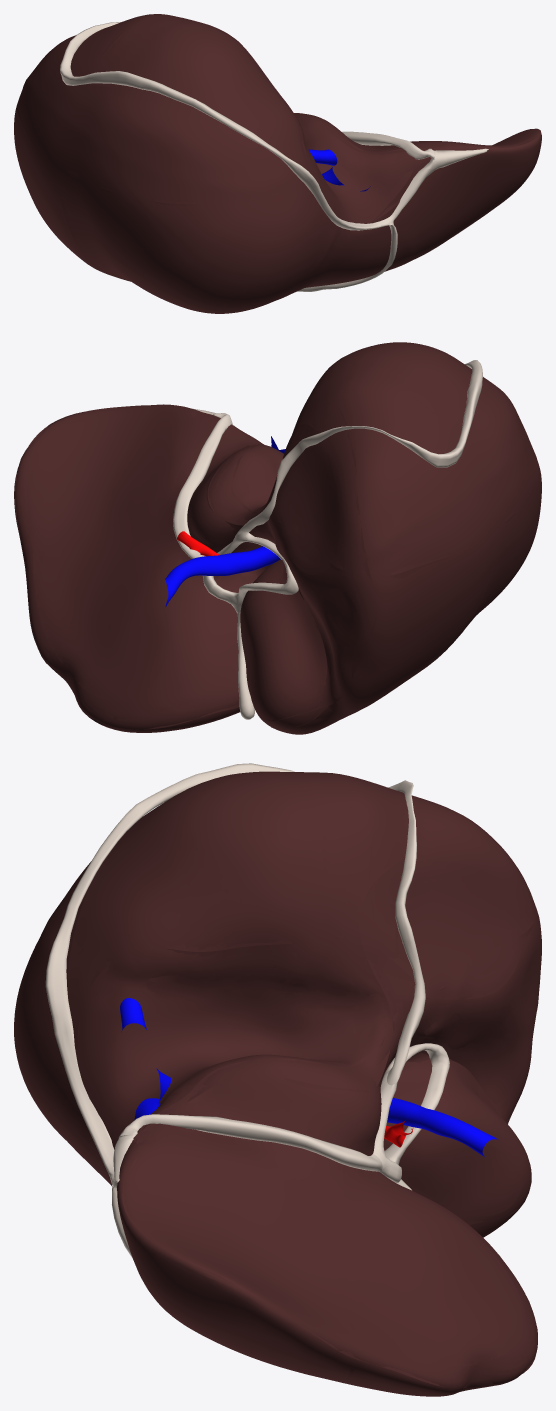
The model's file is liver-female.glb.
3 renders of one model, top to bottom at view 1: azimuth 30°, elevation 25°; view 2: azimuth 150°, elevation 25°; view 3: azimuth 270°, elevation 25°, orthographic. The views are drawn at different scales.
Parts seen in each view (by area): view 1: VH_F_capsule_of_the_liver, VH_F_bare_area_of_liver, VH_F_coronary_ligament_of_liver, VH_F_right_posterosuperior_segment, VH_F_caudate_lobe, VH_F_left_superomedial_segment, VH_F_left_superomedial_segment1, VH_F_right_anterosuperior_segment, VH_F_ligamentum_venosum, VH_F_right_anteroinferior_segment, VH_F_diaphragmatic_surface_of_liver, VH_F_falciform_ligament (+2 smaller); view 2: VH_F_capsule_of_the_liver, VH_F_diaphragmatic_surface_of_liver, VH_F_bare_area_of_liver, VH_F_gastric_impression_of_liver, VH_F_left_superomedial_segment, VH_F_left_anterolateral_segment, VH_F_right_posteroinferior_segment, VH_F_right_anteroinferior_segment, VH_F_coronary_ligament_of_liver, VH_F_quadrate_lobe, VH_F_caudate_lobe, VH_F_renal_impression_of_liver (+9 smaller); view 3: VH_F_bare_area_of_liver, VH_F_capsule_of_the_liver, VH_F_diaphragmatic_surface_of_liver, VH_F_caudate_lobe, VH_F_gastric_impression_of_liver, VH_F_left_superomedial_segment, VH_F_coronary_ligament_of_liver, VH_F_right_posteroinferior_segment, VH_F_left_anterolateral_segment, VH_F_right_posterosuperior_segment, VH_F_renal_impression_of_liver, VH_F_colic_impression_of_liver (+8 smaller).
Boxes of the visible parts, x1,y1,x2,y2 form: VH_F_capsule_of_the_liver: (14,34,541,313); VH_F_bare_area_of_liver: (70,14,434,221); VH_F_coronary_ligament_of_liver: (60,22,434,230); VH_F_right_posterosuperior_segment: (60,17,308,204); VH_F_caudate_lobe: (299,115,412,223); VH_F_left_superomedial_segment: (363,130,540,266); VH_F_left_superomedial_segment1: (286,198,396,295); VH_F_right_anterosuperior_segment: (60,167,322,281); VH_F_ligamentum_venosum: (342,131,434,159); VH_F_right_anteroinferior_segment: (16,109,90,264); VH_F_diaphragmatic_surface_of_liver: (295,113,539,154); VH_F_falciform_ligament: (297,224,397,291); VH_F_capsule_of_the_liver: (14,378,541,734); VH_F_diaphragmatic_surface_of_liver: (14,403,376,729); VH_F_bare_area_of_liver: (207,342,478,525); VH_F_gastric_impression_of_liver: (33,425,172,701); VH_F_left_superomedial_segment: (23,407,211,557); VH_F_left_anterolateral_segment: (28,530,270,731); VH_F_right_posteroinferior_segment: (276,372,487,575); VH_F_right_anteroinferior_segment: (278,521,497,713); VH_F_coronary_ligament_of_liver: (235,360,482,535); VH_F_quadrate_lobe: (246,559,327,728); VH_F_caudate_lobe: (187,431,283,552); VH_F_renal_impression_of_liver: (271,439,338,574); VH_F_bare_area_of_liver: (68,771,406,1139); VH_F_capsule_of_the_liver: (14,792,541,1396); VH_F_diaphragmatic_surface_of_liver: (122,819,541,1388); VH_F_caudate_lobe: (77,936,427,1155); VH_F_gastric_impression_of_liver: (164,1163,524,1366); VH_F_left_superomedial_segment: (124,1126,351,1383); VH_F_coronary_ligament_of_liver: (45,763,425,1187); VH_F_right_posteroinferior_segment: (326,773,533,989); VH_F_left_anterolateral_segment: (342,1164,524,1394); VH_F_right_posterosuperior_segment: (36,772,331,987); VH_F_renal_impression_of_liver: (388,856,522,999); VH_F_colic_impression_of_liver: (443,947,541,1216).
Size of the model in its own units: 247 by 166 by 170.
